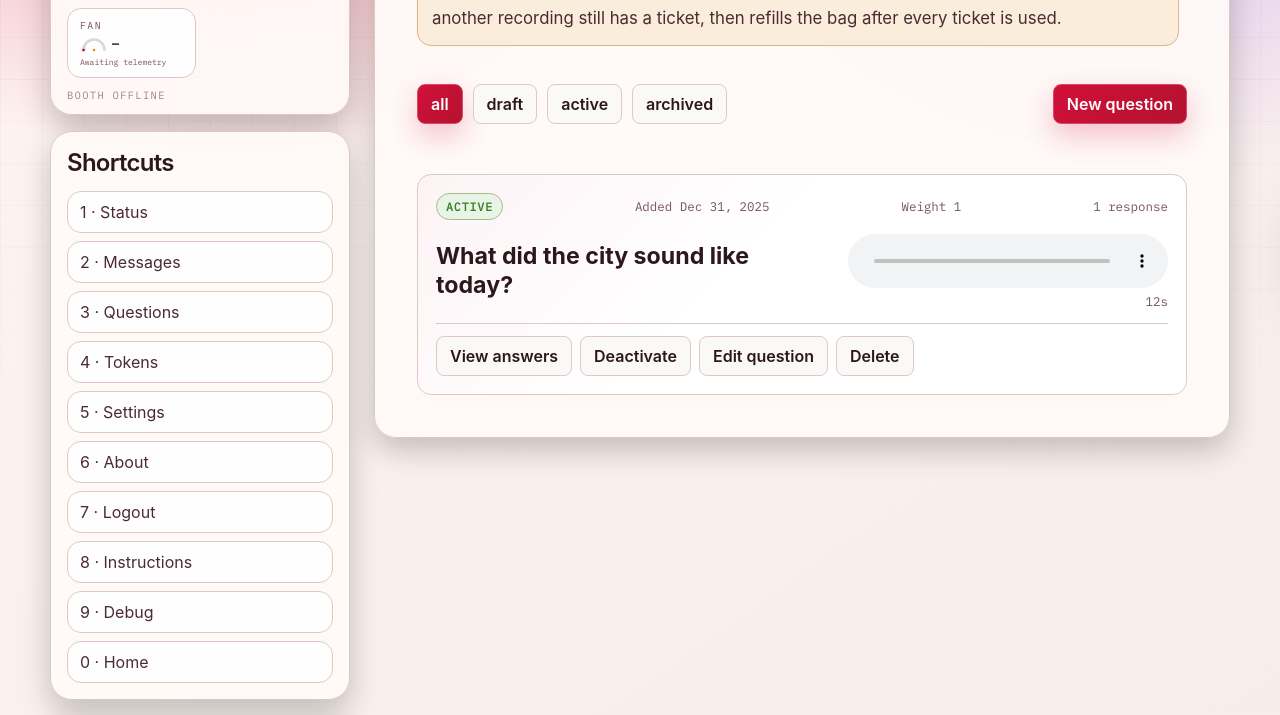
Scenario: Questions feature › opens the paged answer list from a question
(page scrolled)
Click the link with aria-label "View answers to What did the city sound like today?" at [504, 356], box [436,336,572,376]
(page scrolled)
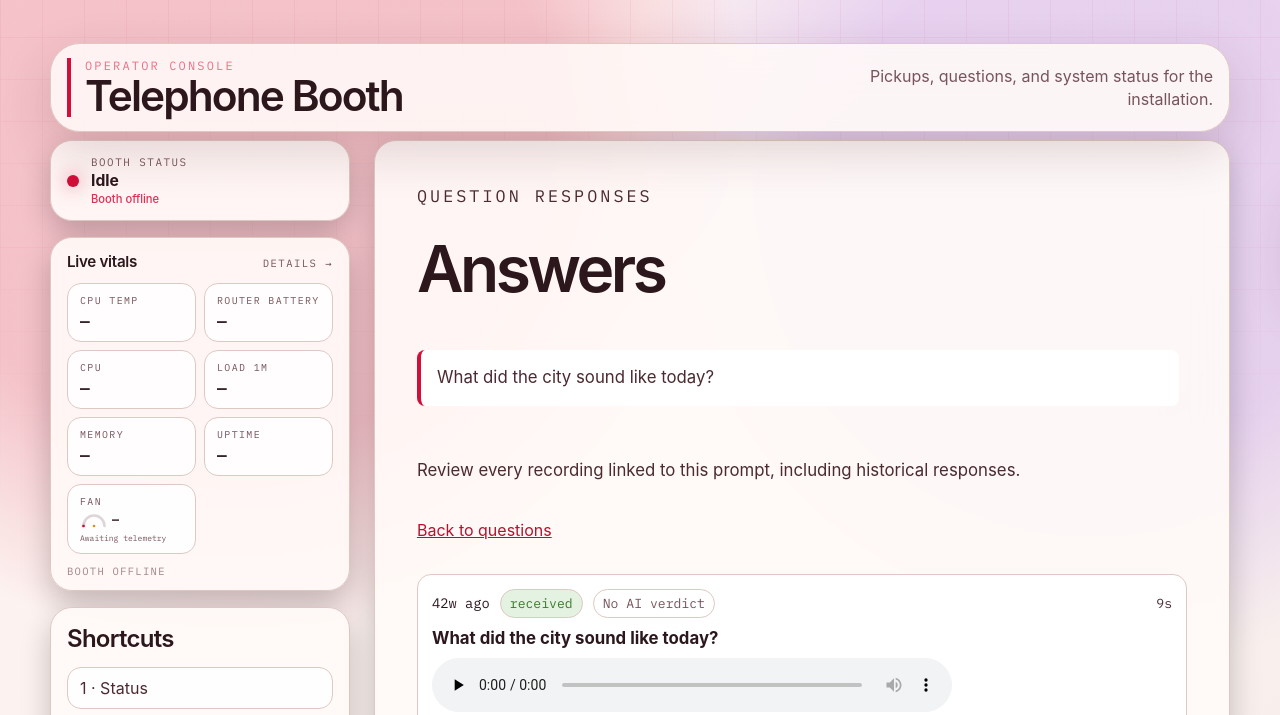
Expected: the heading "Answers" is shown, [417,230,664,307]
